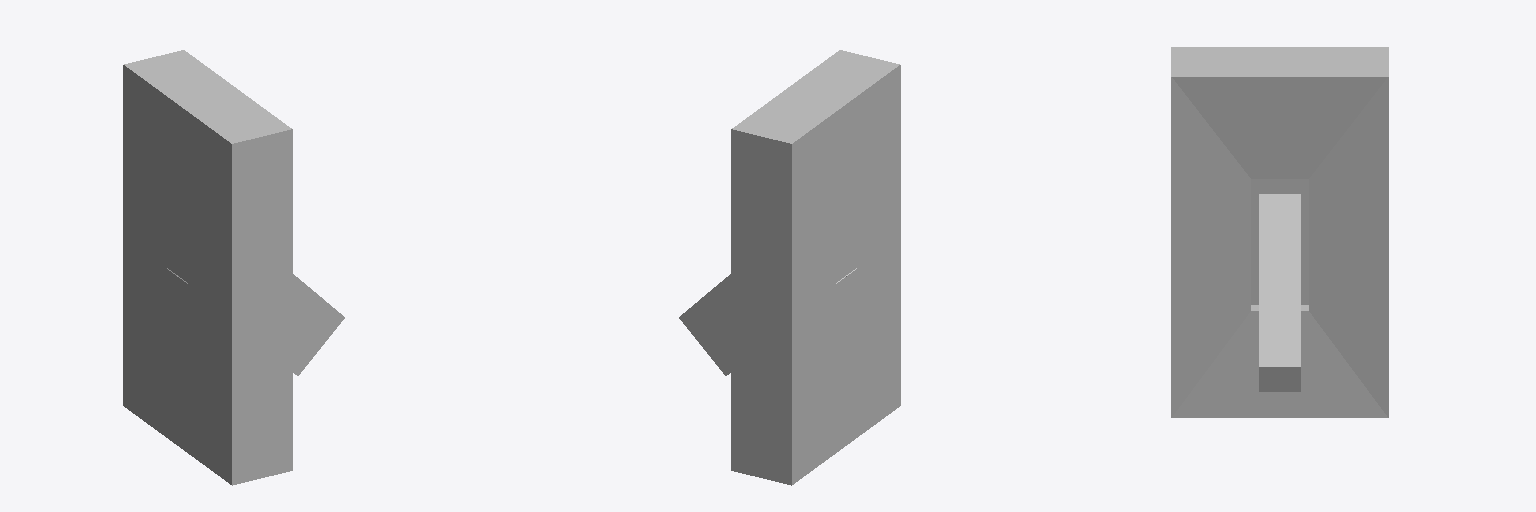
The model's file is lightswitch.obj.
The picture shows the model from 3 angles: view 1: azimuth 30°, elevation 25°; view 2: azimuth 150°, elevation 25°; view 3: azimuth 270°, elevation 25°; orthographic projection.
Visible parts, largest first — view 1: Base, Switch; view 2: Base, Switch; view 3: Base, Switch.
Boxes of the visible parts, <box> form: Base: <box>123,50,292,485</box>; Switch: <box>167,268,344,375</box>; Base: <box>731,50,900,485</box>; Switch: <box>679,268,856,375</box>; Base: <box>1171,47,1388,417</box>; Switch: <box>1259,194,1300,391</box>.
Size of the model in its own units: 0.3654 by 0.7573 by 0.4362.